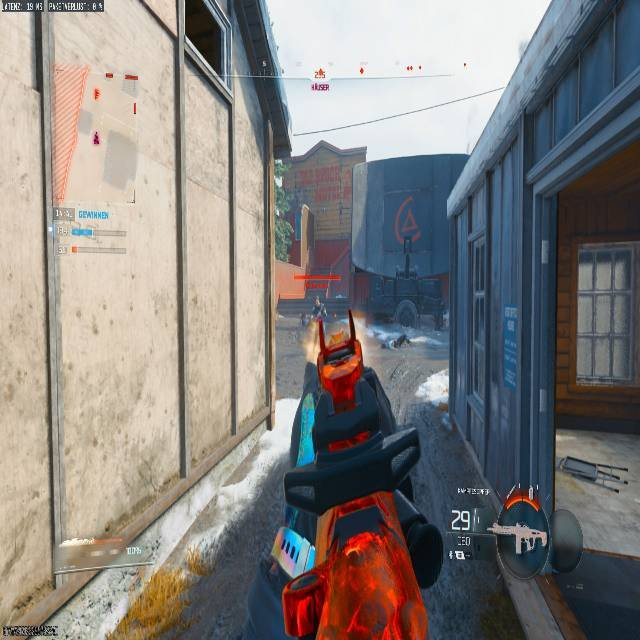head: (303, 316, 363, 399)
player: (260, 311, 486, 636), (311, 295, 321, 318)
